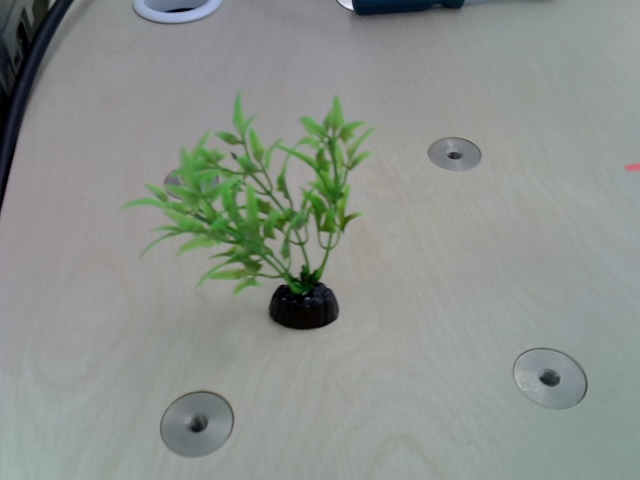튤립새싹: (151, 93, 367, 330)
